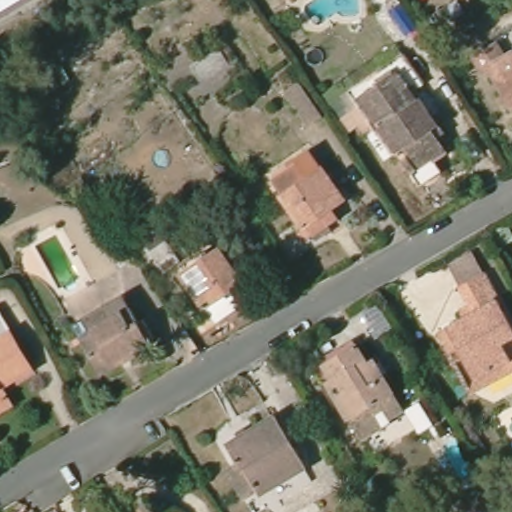pool: (31, 234, 81, 292), (439, 438, 479, 483), (304, 1, 362, 23), (151, 145, 178, 173)
